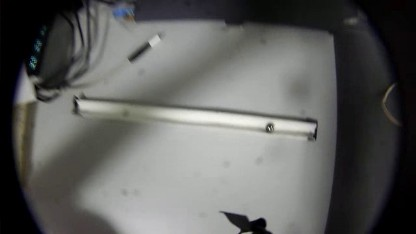gangzhu: (262, 121, 273, 133)
